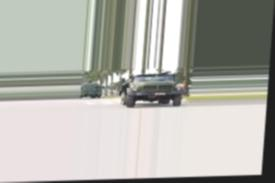License_Plate: (154, 92, 168, 96)
